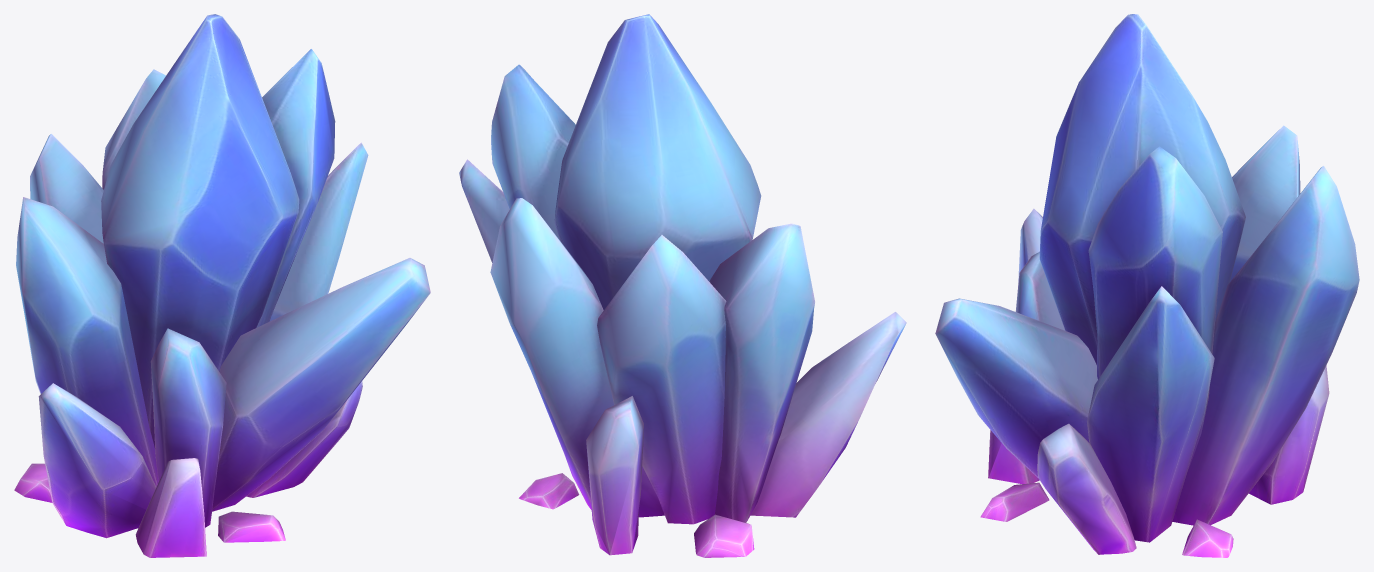
The model's file is crystal_cluster.glb.
3 views of the same model, side by side, from view 1: azimuth 30°, elevation 25°; view 2: azimuth 150°, elevation 25°; view 3: azimuth 270°, elevation 25° (orthographic). The views are drawn at different scales.
Parts seen in each view (by area): view 1: Crystal; view 2: Crystal; view 3: Crystal.
Part boxes in pixels (bbox=[...]): Crystal: bbox=[14, 14, 430, 557]; Crystal: bbox=[459, 14, 906, 557]; Crystal: bbox=[935, 14, 1359, 557].
Bounding box in the file's own units: 2.1 × 2.46 × 1.89.
1 material, 1 textured.
